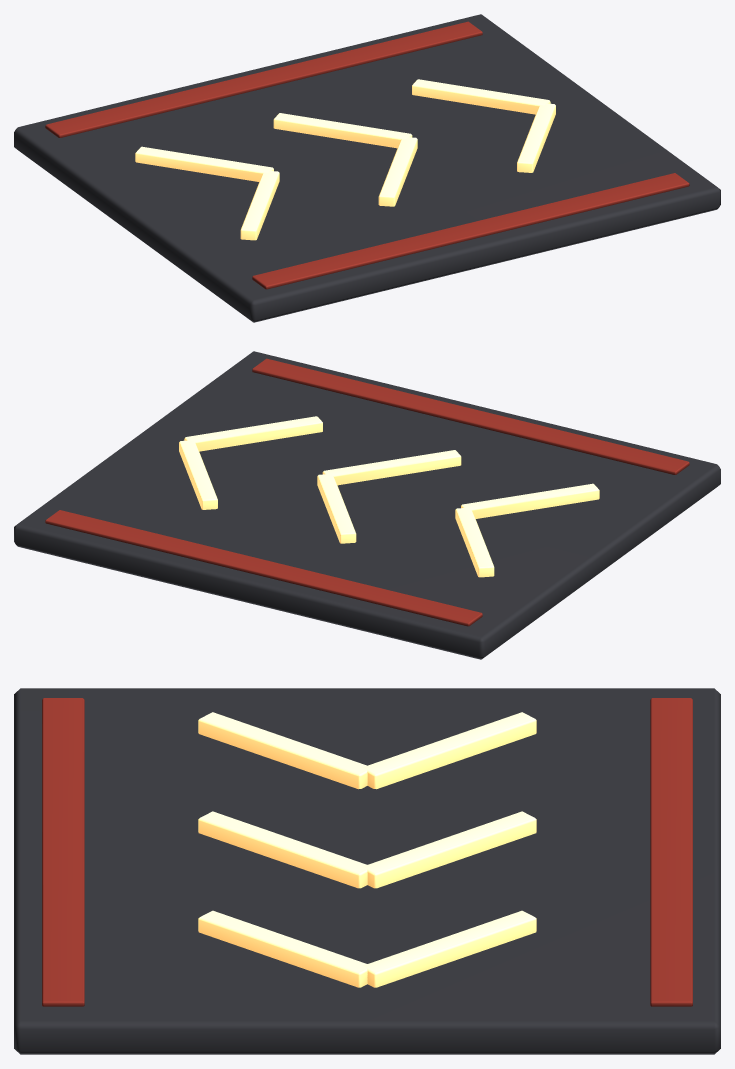
The model's file is speedway_speedway_boost_pad.glb.
3 renders of one model, top to bottom at view 1: azimuth 30°, elevation 25°; view 2: azimuth 150°, elevation 25°; view 3: azimuth 270°, elevation 25°, orthographic. The views are drawn at different scales.
Parts seen in each view (by area): view 1: Grippy boost pad; view 2: Grippy boost pad; view 3: Grippy boost pad.
Part boxes in pixels (box(x1,y1,x2,y2)): Grippy boost pad: box(14, 14, 720, 322); Grippy boost pad: box(14, 351, 720, 659); Grippy boost pad: box(14, 688, 720, 1054).
Bounding box in the file's own units: 3 × 0.2005 × 2.65.
